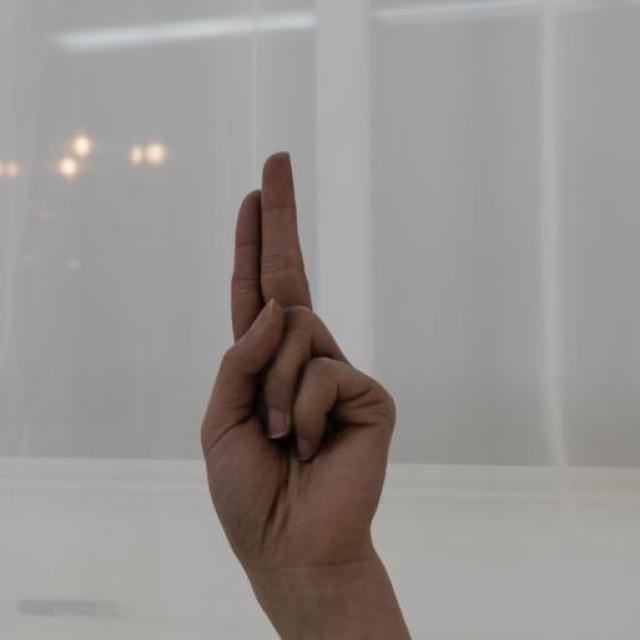U: (199, 152, 405, 582)
